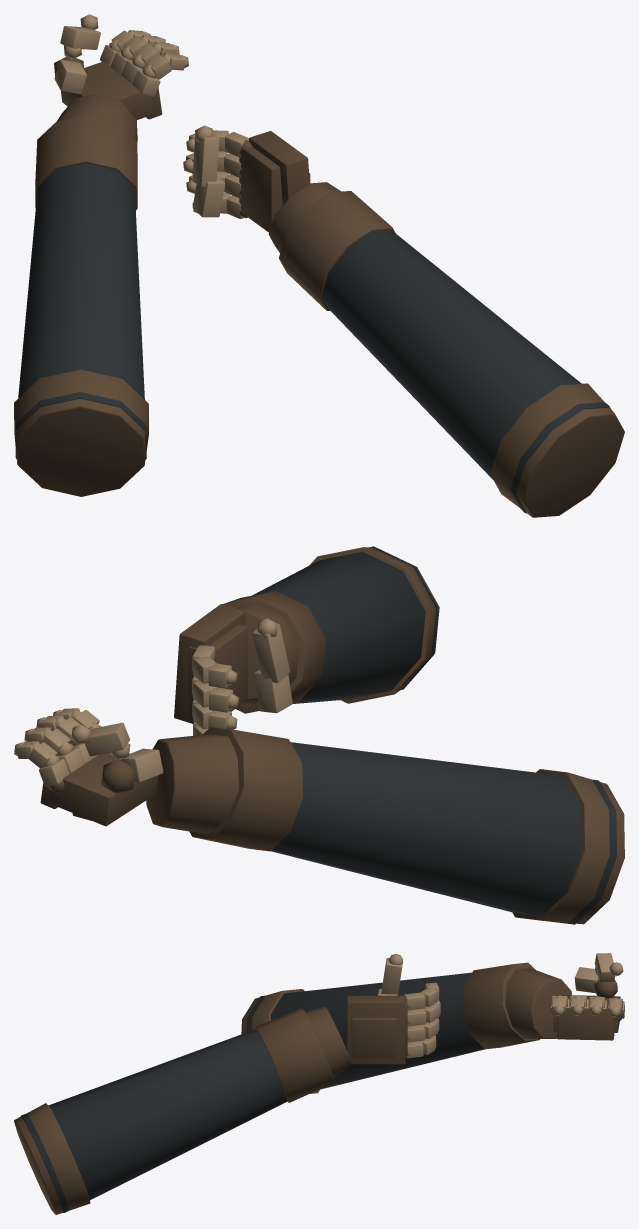
Rendered from SM_Bras_FPS.glb.
The picture shows the model from 3 angles, top to bottom: view 1: azimuth 30°, elevation 25°; view 2: azimuth 150°, elevation 25°; view 3: azimuth 270°, elevation 25°; orthographic projection. The views are drawn at different scales.
Visible parts, largest first — view 1: SM_Bras_FPS; view 2: SM_Bras_FPS; view 3: SM_Bras_FPS.
Boxes of the visible parts, <box> form: SM_Bras_FPS: <box>14,14,624,517</box>; SM_Bras_FPS: <box>14,546,624,924</box>; SM_Bras_FPS: <box>14,953,624,1214</box>.
Size of the model in its own units: 0.4123 by 0.2431 by 0.6227.
